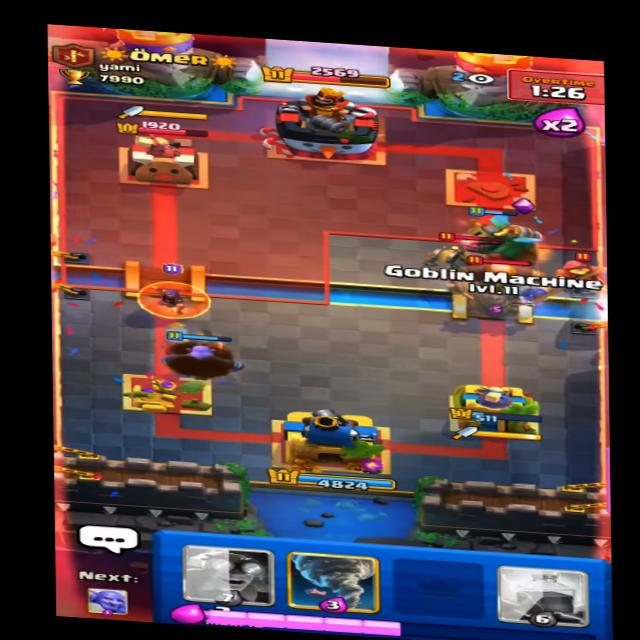evo-wizard: (134, 259, 216, 323)
fisherman: (518, 243, 617, 297)
giant: (433, 253, 551, 311)
goblin-machine: (421, 217, 520, 290)
